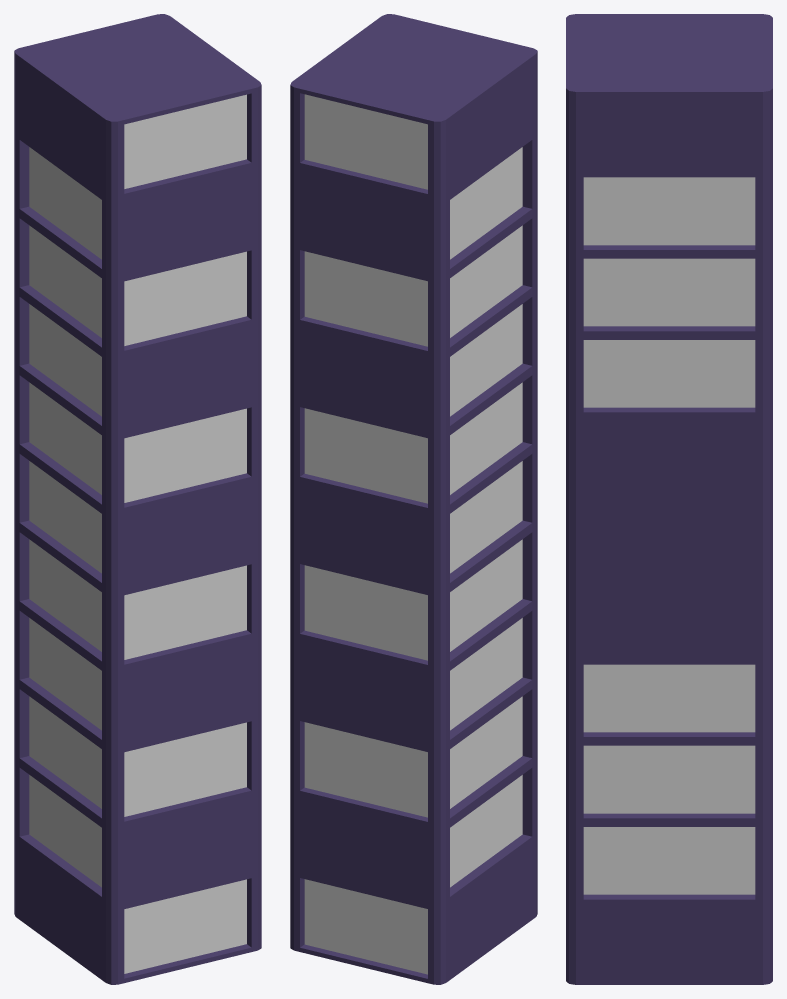
Rendered from Batiment_B.fbx.
3 renders of one model, left to right at view 1: azimuth 30°, elevation 25°; view 2: azimuth 150°, elevation 25°; view 3: azimuth 270°, elevation 25°, orthographic. The views are drawn at different scales.
Parts seen in each view (by area): view 1: Cube.025; view 2: Cube.025; view 3: Cube.025.
Boxes of the visible parts, x1,y1,x2,y2 form: Cube.025: (14, 14, 261, 984); Cube.025: (290, 14, 537, 984); Cube.025: (566, 14, 772, 984).
Size of the model in its own units: 255 by 1362 by 286.
